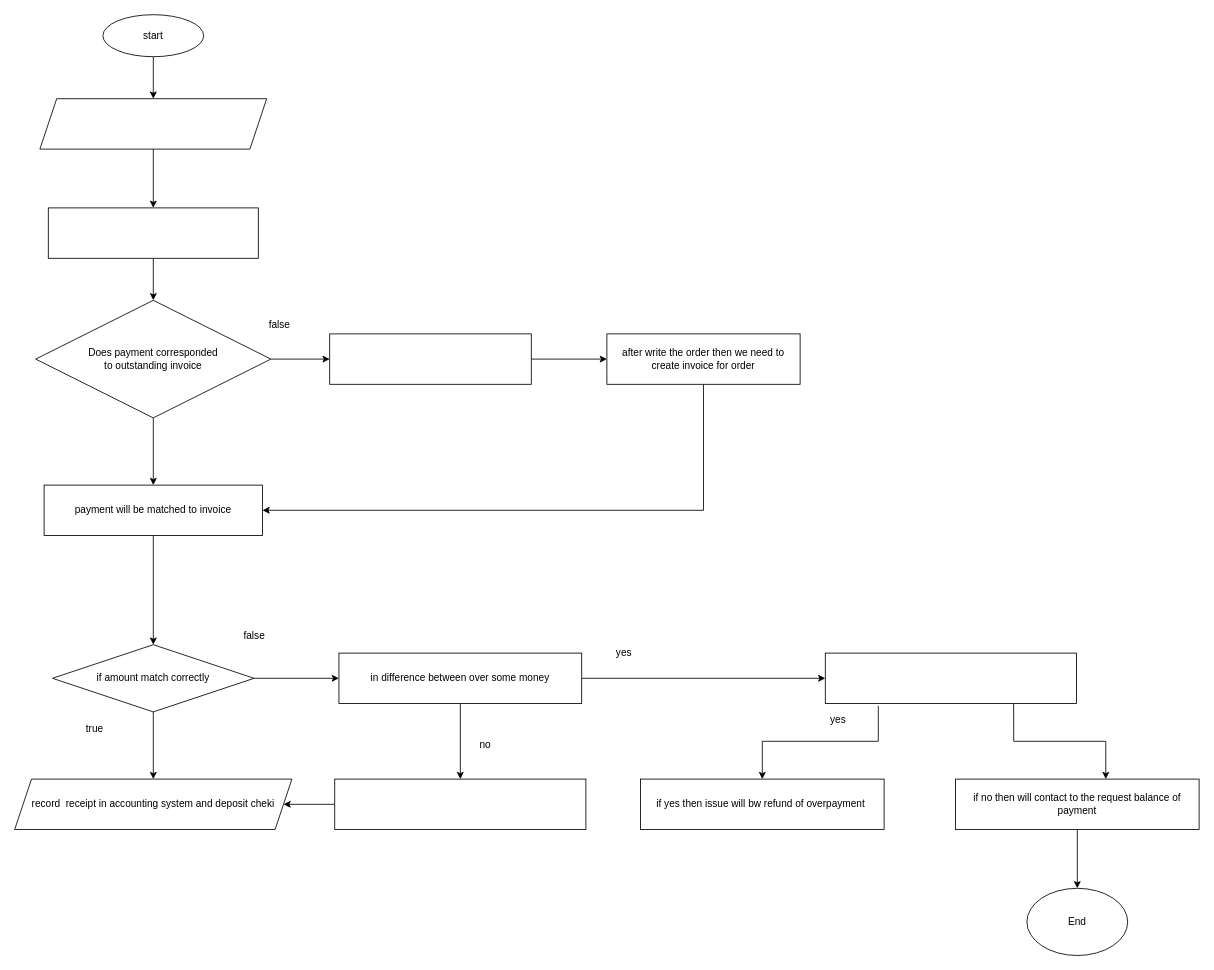
The diagram is 1214 pixels wide and 970 high, and some of its shapes have lost their labels. The centre of each missing label's shape, as x and y in pixels:
check the money diference isn"t correct ?: (950,678)
customer payment processing method: (153,123)
forwarding copy of check to sales department to note down the orders: (430,358)
note the differnece between the money: (460,804)
recive payment on user contact number oe other address: (152,232)
